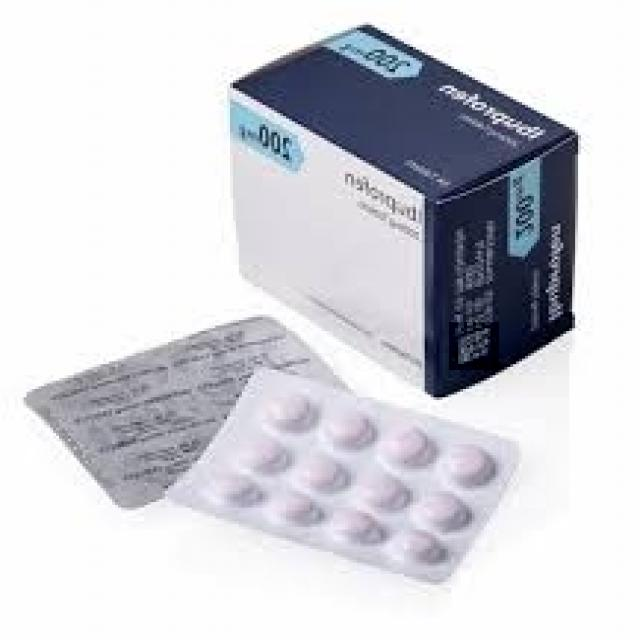DataMatrix: (449, 322, 499, 370)
